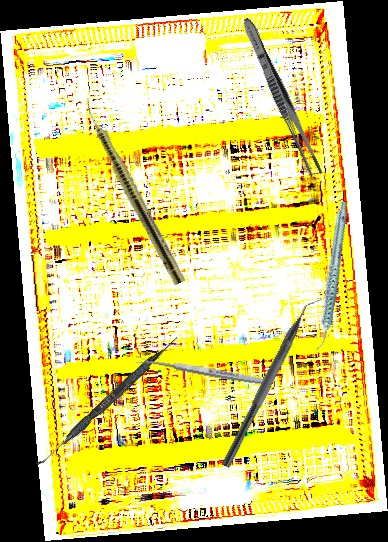Chopper: (220, 290, 327, 475)
Dressing Forceps: (237, 15, 326, 179)
Handpiece: (76, 95, 189, 287), (284, 199, 378, 353)
Spatula Surgical: (35, 331, 180, 472)
Surgical Spoon: (135, 354, 268, 387)
